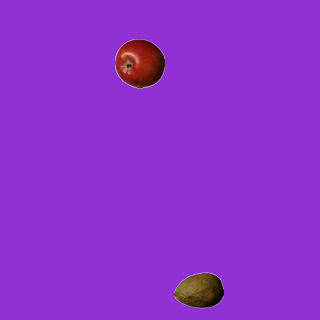Apple Braeburn: (114, 38, 164, 88)
Papaya: (173, 265, 223, 315)
